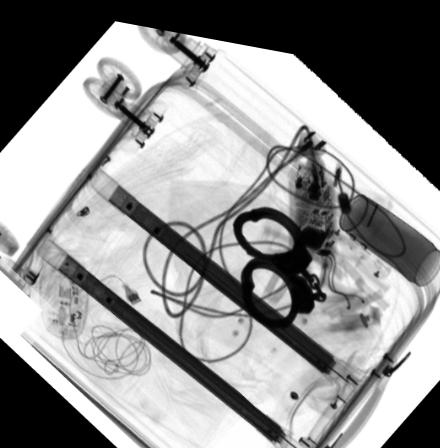HandCuffs: (230, 197, 327, 319)
